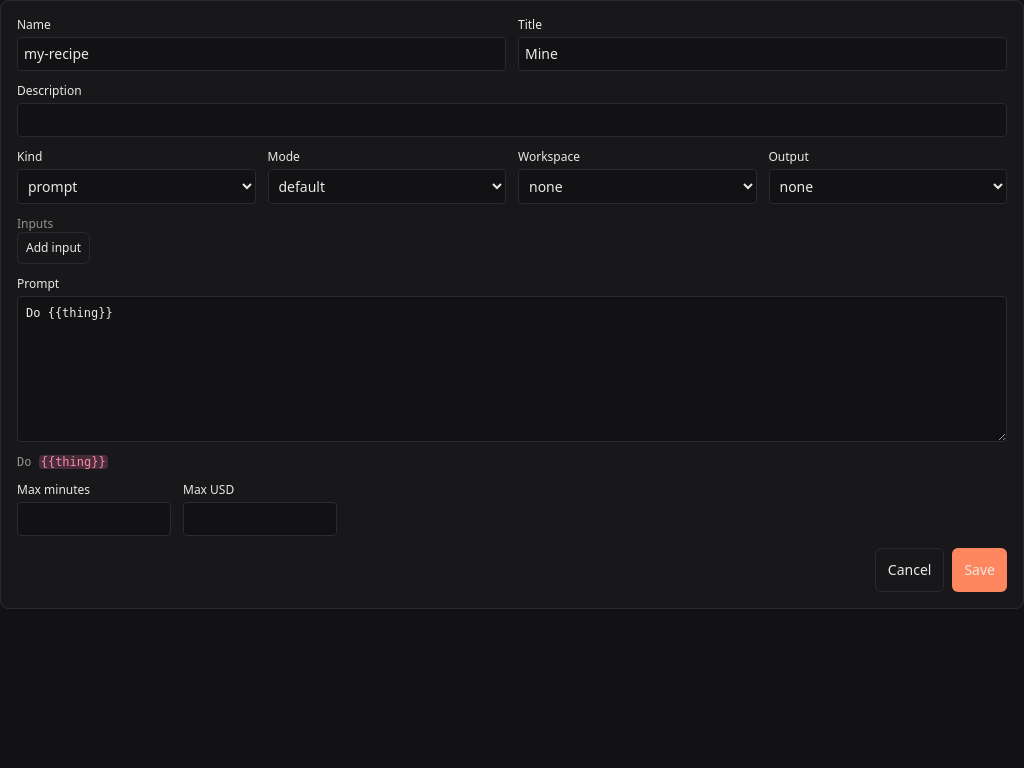
Scenario: RecipeEditor › rejects an undeclared placeholder
What coordinates should you click on to do the following:
click the button "Save"
I would click on:
 (980, 570)
Its box is [952, 548, 1007, 592].
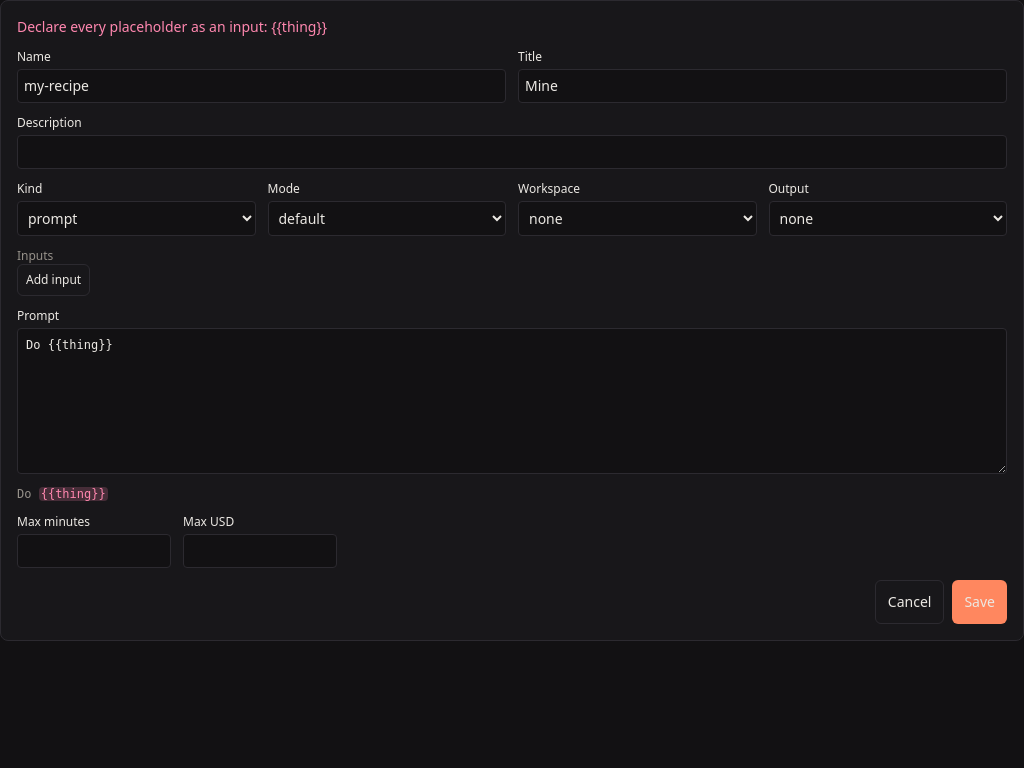
Expected: the message shows "{{thing}}", [17, 17, 327, 36]
